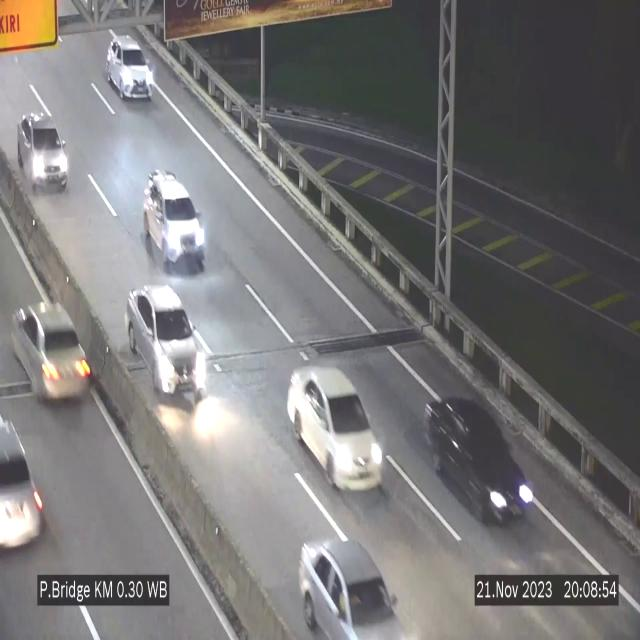Car: (290, 518, 420, 640), (426, 397, 530, 535), (5, 286, 100, 414), (288, 366, 384, 488), (0, 401, 50, 572), (126, 286, 198, 398), (144, 173, 206, 271), (17, 112, 68, 190), (107, 35, 154, 99)
